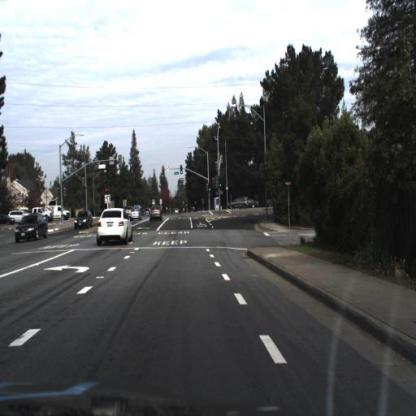car: (97, 208, 132, 250), (16, 214, 50, 245), (72, 209, 96, 232), (74, 210, 95, 231), (226, 196, 250, 211), (54, 204, 72, 223), (148, 204, 164, 225), (29, 206, 50, 219), (37, 208, 54, 224), (129, 206, 143, 224), (9, 209, 27, 221), (151, 205, 162, 221), (249, 198, 262, 210)
trafficLight-Green: (178, 169, 186, 181), (208, 184, 213, 198), (219, 178, 224, 190)
trafficLight-Red: (102, 182, 110, 199), (162, 163, 167, 179)
